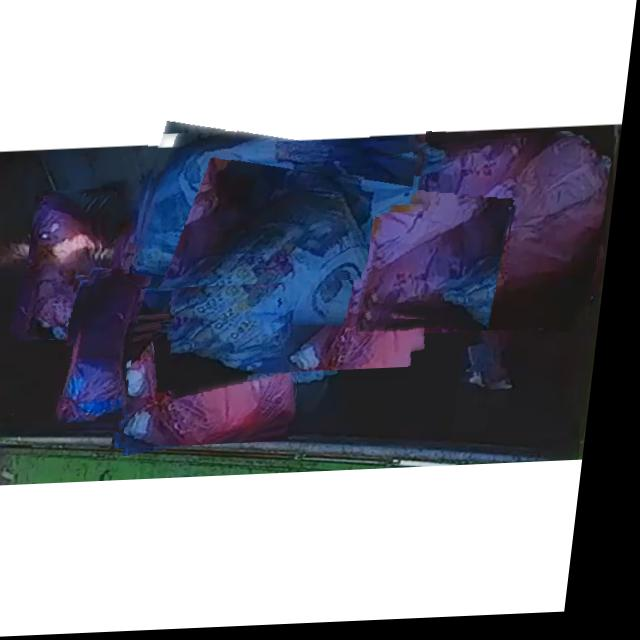other_trashbag: (180, 185, 426, 375), (142, 132, 427, 290), (409, 142, 616, 325), (130, 316, 304, 448), (370, 213, 516, 319), (70, 273, 145, 423), (41, 192, 105, 340)
